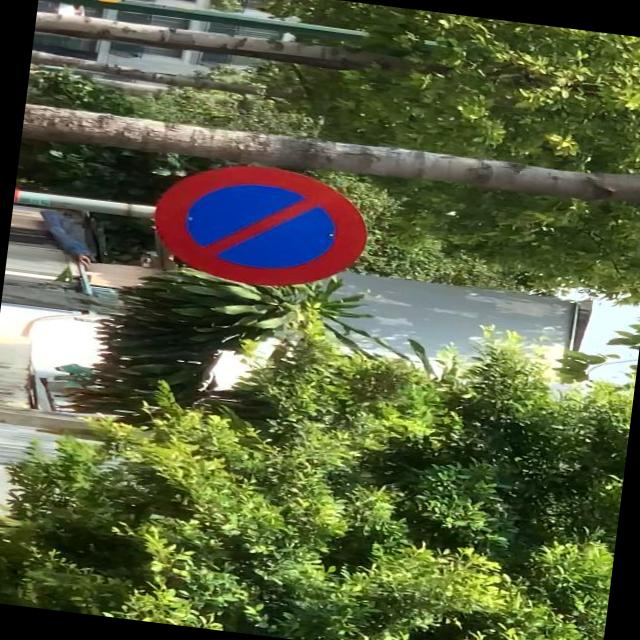P-131a: (145, 156, 374, 297)
